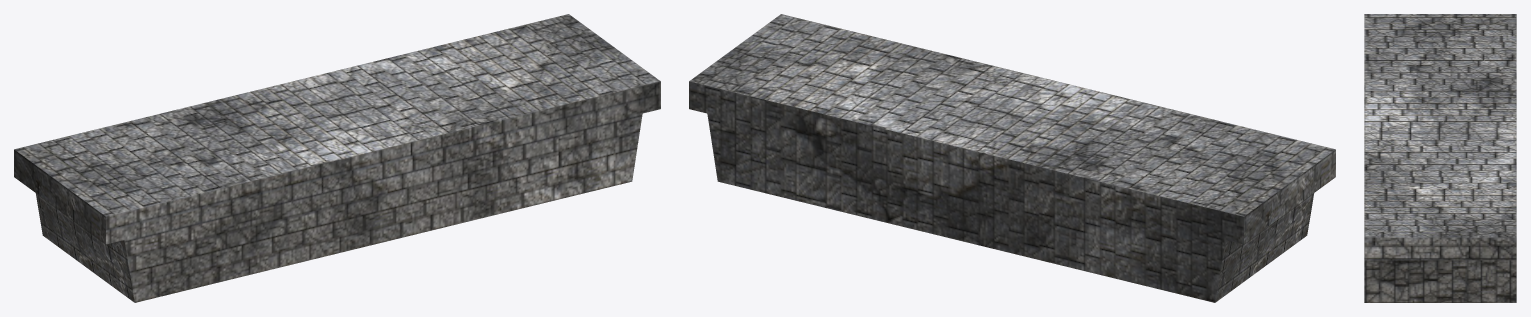
The model's file is opora2_kzdm.gltf.
3 views of the same model, side by side, from view 1: azimuth 30°, elevation 25°; view 2: azimuth 150°, elevation 25°; view 3: azimuth 270°, elevation 25° (orthographic). The views are drawn at different scales.
Size of the model in its own units: 13.67 by 2.2 by 3.93.
Materials: 1 (1 with a texture image).
